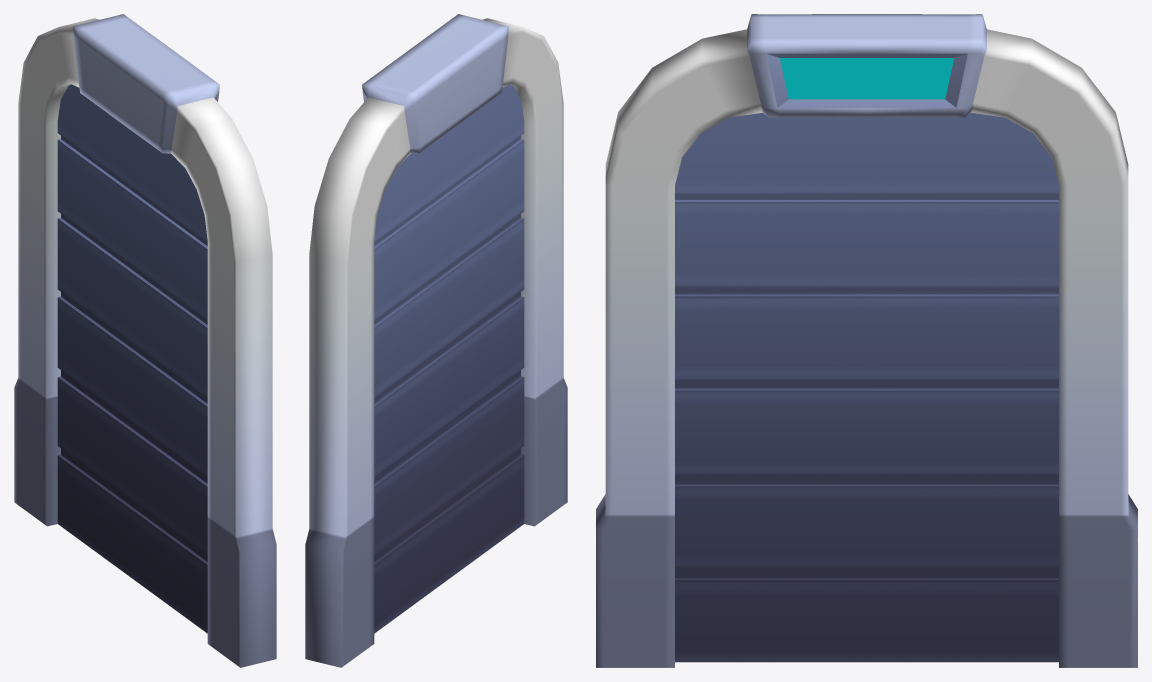
The model's file is door.fbx.
The picture shows the model from 3 angles, left to right: view 1: azimuth 30°, elevation 25°; view 2: azimuth 150°, elevation 25°; view 3: azimuth 270°, elevation 25°; orthographic projection. The views are drawn at different scales.
Parts seen in each view (by area): view 1: DoorFrame, Door; view 2: DoorFrame, Door; view 3: Door, DoorFrame.
Part boxes in pixels (x1,y1,x2,y2): DoorFrame: (14, 14, 276, 667); Door: (57, 84, 207, 633); DoorFrame: (305, 14, 567, 667); Door: (374, 84, 524, 633); Door: (675, 113, 1058, 662); DoorFrame: (596, 14, 1137, 667).
Bounding box in the file's own units: 97.73 × 968 × 755.
